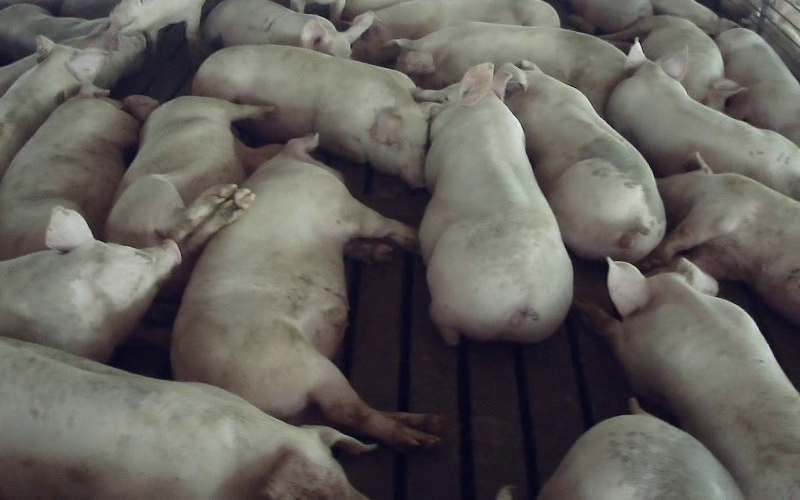pig: (174, 136, 437, 446), (578, 258, 799, 499), (417, 63, 572, 344), (502, 61, 665, 261), (606, 40, 799, 200), (0, 207, 180, 361), (107, 96, 279, 255), (656, 153, 799, 325), (0, 86, 140, 260), (390, 22, 625, 115), (0, 36, 106, 178), (601, 15, 742, 110), (353, 0, 559, 64), (202, 0, 373, 57), (716, 28, 799, 145)
